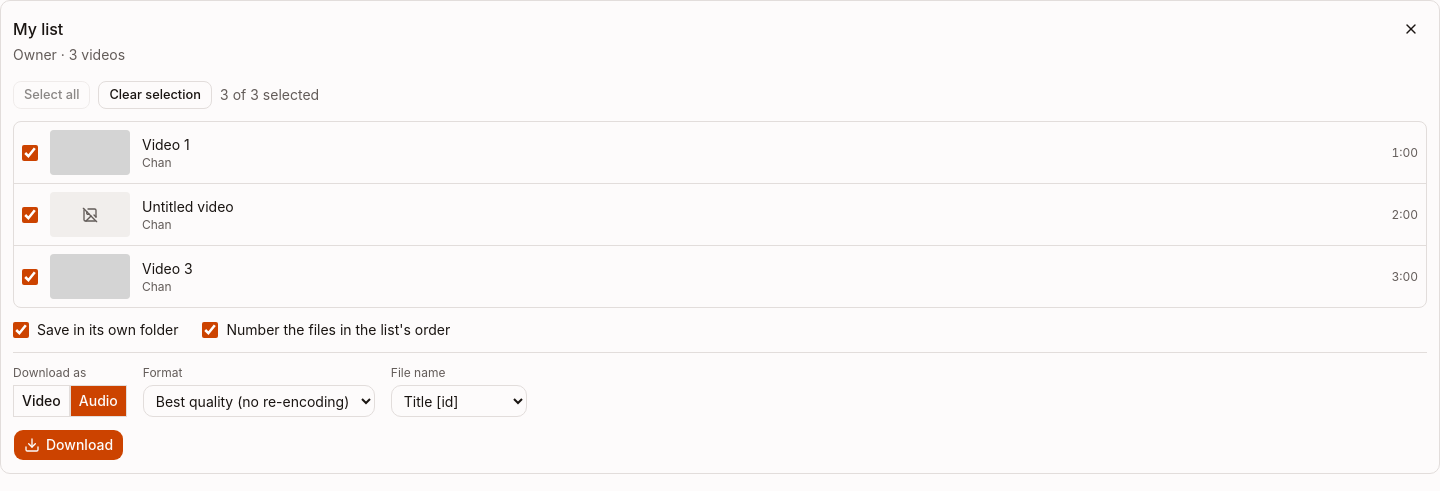
it: the Download button › queues the ticked entries in order, numbered when it is audio
Click the checkbox labelled "Video 3 Chan 3:00".
click(30, 276)  # box [22,268,38,284]
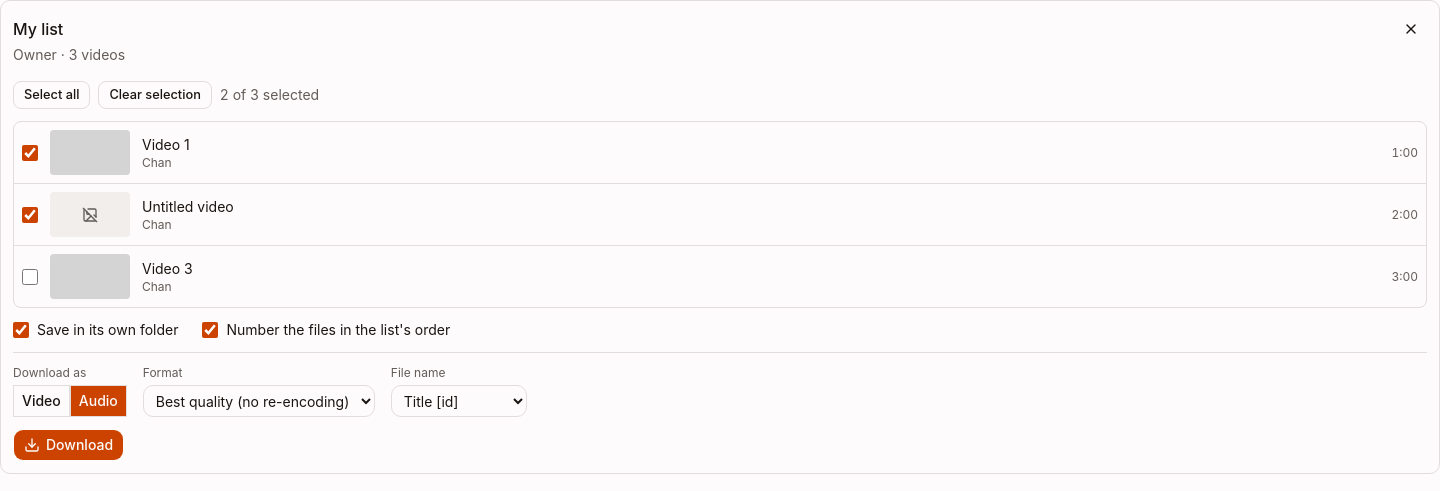
Click the button "Download".
click(69, 445)  # box [13,429,124,461]
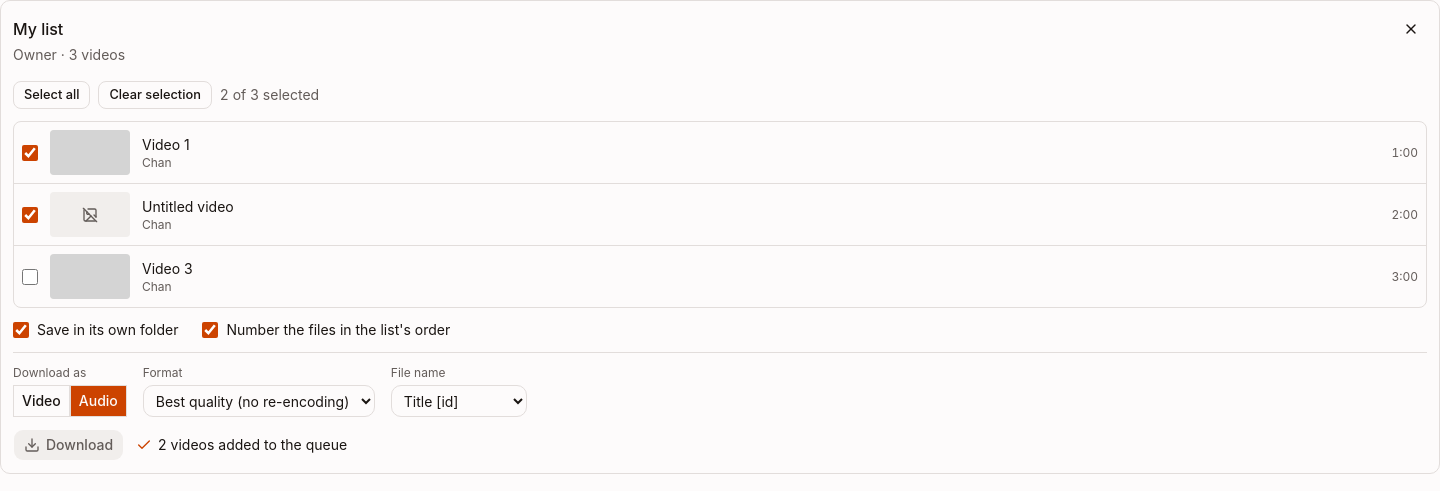
Now the text "2 videos added to the queue" is shown, box [136,435,347,455]
